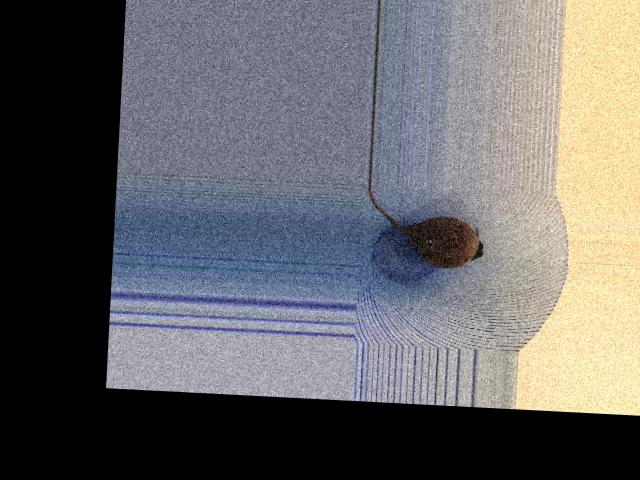beet: (365, 183, 487, 270)
